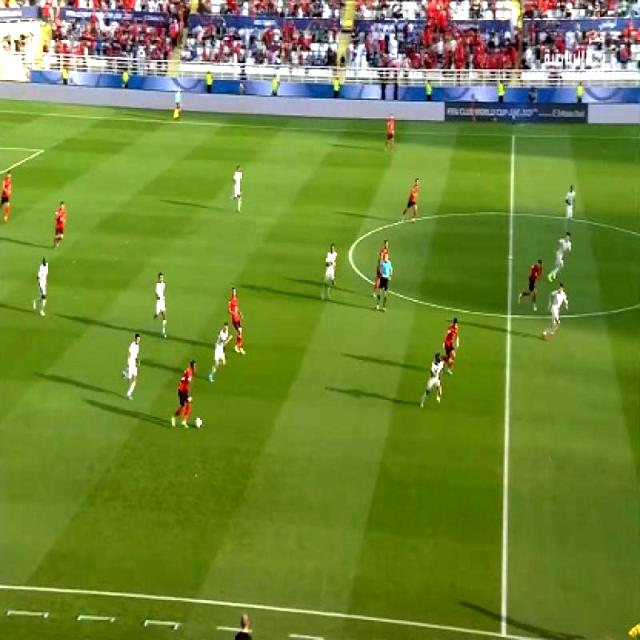bigarea_top_inner: (32, 140, 48, 158)
halfcircle_bottom: (498, 300, 520, 330)
halfcircle_top: (502, 202, 522, 223)
midline_bottom_intersection: (485, 609, 523, 640)
midline_top_intersection: (506, 125, 520, 143)
